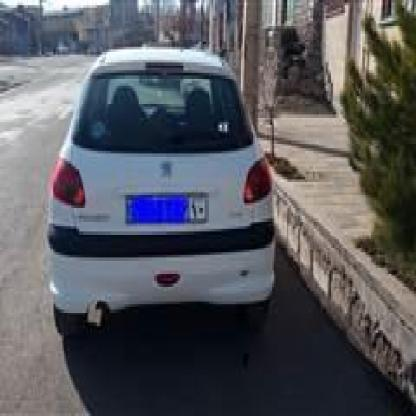Car: (45, 41, 274, 328)
